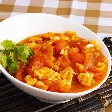fanqiechaojidan: (1, 31, 112, 90)
